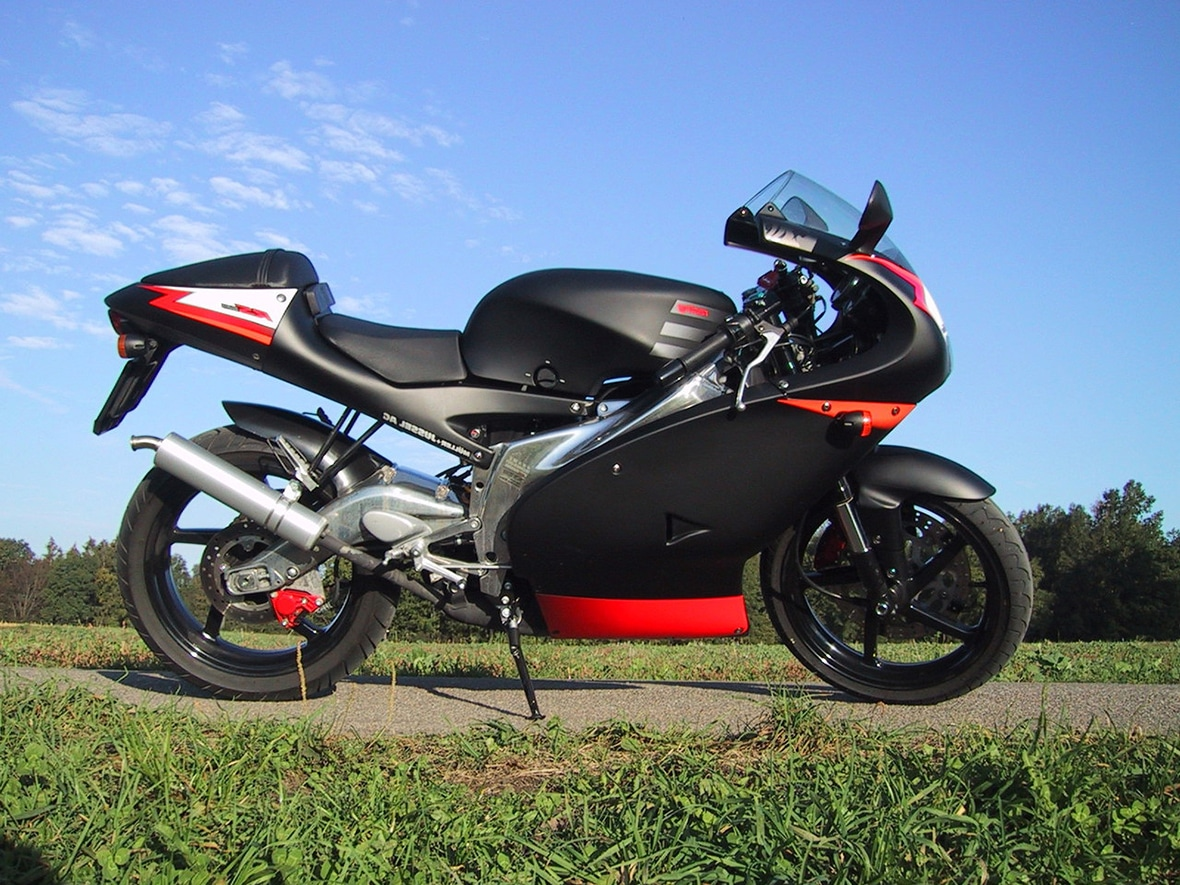motorbike: (90, 167, 1038, 719)
